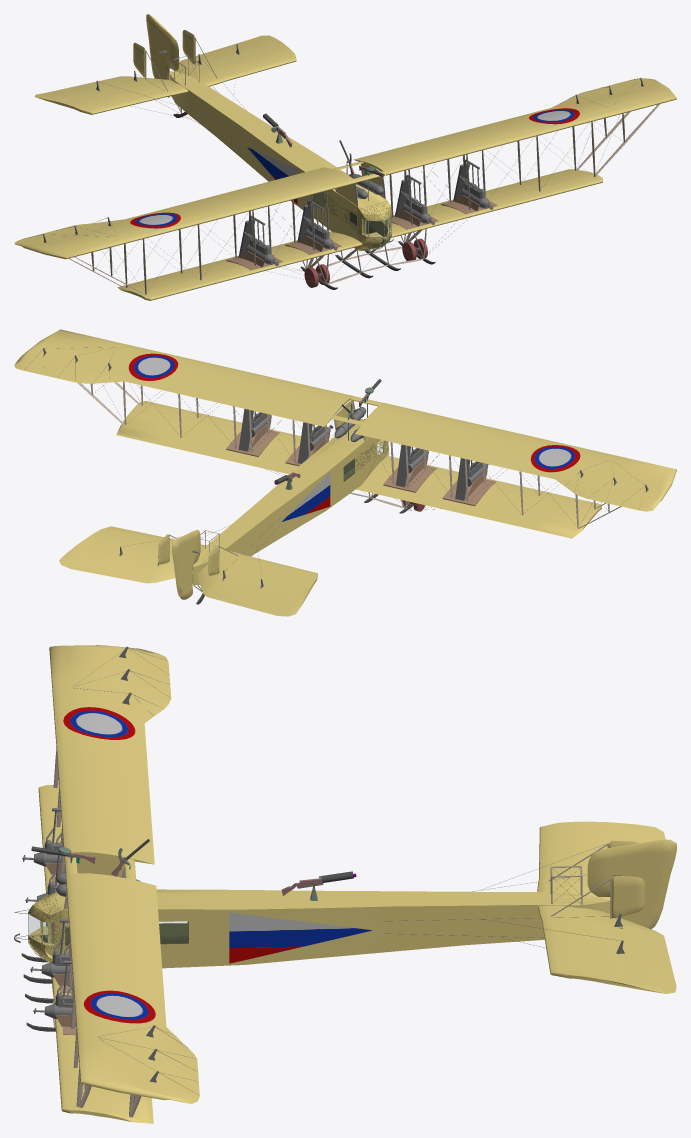
Rendered from ilya_muromets.glb.
3 renders of one model, top to bottom at view 1: azimuth 30°, elevation 25°; view 2: azimuth 150°, elevation 25°; view 3: azimuth 270°, elevation 25°, orthographic. The views are drawn at different scales.
Parts seen in each view (by area): view 1: FUZEL-FACES.001, PROFIL_VERCH01-FACES.001, PROFIL_VERCH02-FACES.001, PROFIL_NIG_04-FACES.001, PROFIL_NIG_02-FACES.001, PROFIL_NIG_05-FACES.001, PROFIL_NIG_03-FACES.001, Box02-FACES.001, FUZEL01-FACES.001, PROFIL_FLAG01-FACES.001, PROFIL_FLAG02-FACES.001, FUZEL_FLAG-FACES.001 (+2 smaller); view 2: PROFIL_VERCH01-FACES.001, PROFIL_VERCH02-FACES.001, FUZEL-FACES.001, PROFIL_NIG_05-FACES.001, PROFIL_NIG_02-FACES.001, PROFIL_NIG_03-FACES.001, PROFIL_NIG_04-FACES.001, Box02-FACES.001, PROFIL_NIG_FLAG04-FACES.001, PROFIL_NIG_FLAG03-FACES.001, PROFIL_FLAG01-FACES.001, PROFIL_FLAG02-FACES.001 (+4 smaller); view 3: FUZEL-FACES.001, PROFIL_VERCH02-FACES.001, PROFIL_VERCH01-FACES.001, PROFIL_NIG_04-FACES.001, PROFIL_NIG_02-FACES.001, Box02-FACES.001, FUZEL_FLAG-FACES.001, PROFIL_NIG_03-FACES.001, PROFIL_FLAG01-FACES.001, PROFIL_FLAG02-FACES.001, Box24-FACES.001, FUZEL01-FACES.001 (+2 smaller).
Part boxes in pixels (x1,y1,x2,y2): FUZEL-FACES.001: [170, 71, 391, 250]; PROFIL_VERCH01-FACES.001: [14, 167, 356, 259]; PROFIL_VERCH02-FACES.001: [353, 78, 676, 175]; PROFIL_NIG_04-FACES.001: [175, 35, 296, 86]; PROFIL_NIG_02-FACES.001: [34, 76, 188, 114]; PROFIL_NIG_05-FACES.001: [117, 231, 362, 300]; PROFIL_NIG_03-FACES.001: [382, 169, 602, 237]; Box02-FACES.001: [146, 14, 179, 97]; FUZEL01-FACES.001: [312, 192, 391, 249]; PROFIL_FLAG01-FACES.001: [130, 212, 180, 228]; PROFIL_FLAG02-FACES.001: [529, 108, 579, 124]; FUZEL_FLAG-FACES.001: [247, 147, 297, 203]; PROFIL_VERCH01-FACES.001: [355, 402, 676, 511]; PROFIL_VERCH02-FACES.001: [14, 329, 353, 426]; FUZEL-FACES.001: [192, 419, 389, 585]; PROFIL_NIG_05-FACES.001: [356, 456, 601, 538]; PROFIL_NIG_02-FACES.001: [196, 550, 317, 616]; PROFIL_NIG_03-FACES.001: [116, 401, 301, 474]; PROFIL_NIG_04-FACES.001: [59, 526, 206, 583]; Box02-FACES.001: [172, 530, 200, 599]; PROFIL_NIG_FLAG04-FACES.001: [508, 493, 557, 522]; PROFIL_NIG_FLAG03-FACES.001: [160, 414, 209, 443]; PROFIL_FLAG01-FACES.001: [530, 445, 580, 472]; PROFIL_FLAG02-FACES.001: [128, 353, 178, 381]; FUZEL-FACES.001: [28, 889, 610, 968]; PROFIL_VERCH02-FACES.001: [65, 873, 199, 1103]; PROFIL_VERCH01-FACES.001: [49, 645, 171, 864]; PROFIL_NIG_04-FACES.001: [538, 905, 676, 993]; PROFIL_NIG_02-FACES.001: [537, 821, 665, 899]; Box02-FACES.001: [587, 839, 676, 929]; FUZEL_FLAG-FACES.001: [229, 912, 371, 963]; PROFIL_NIG_03-FACES.001: [50, 957, 153, 1123]; PROFIL_FLAG01-FACES.001: [63, 707, 135, 739]; PROFIL_FLAG02-FACES.001: [83, 990, 155, 1023]; Box24-FACES.001: [611, 876, 644, 918]; FUZEL01-FACES.001: [28, 893, 188, 960].
Size of the model in its own units: 53.15 by 9.02 by 33.03.
Materials: 17 (3 with a texture image).
